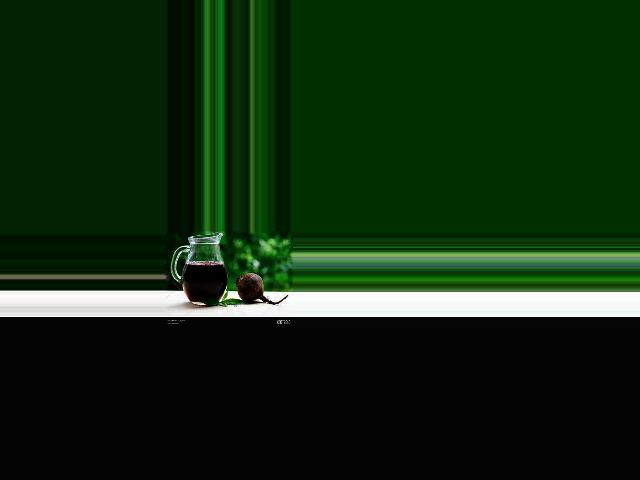beet: (235, 273, 287, 305)
